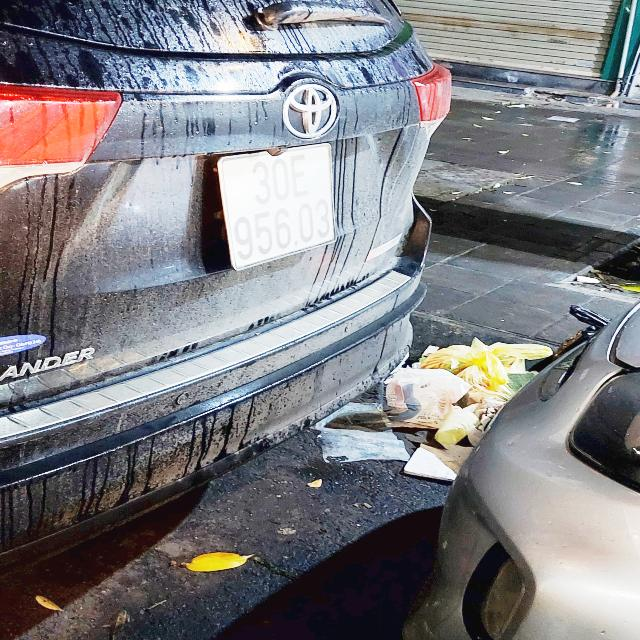license_plate: (211, 141, 348, 275)
